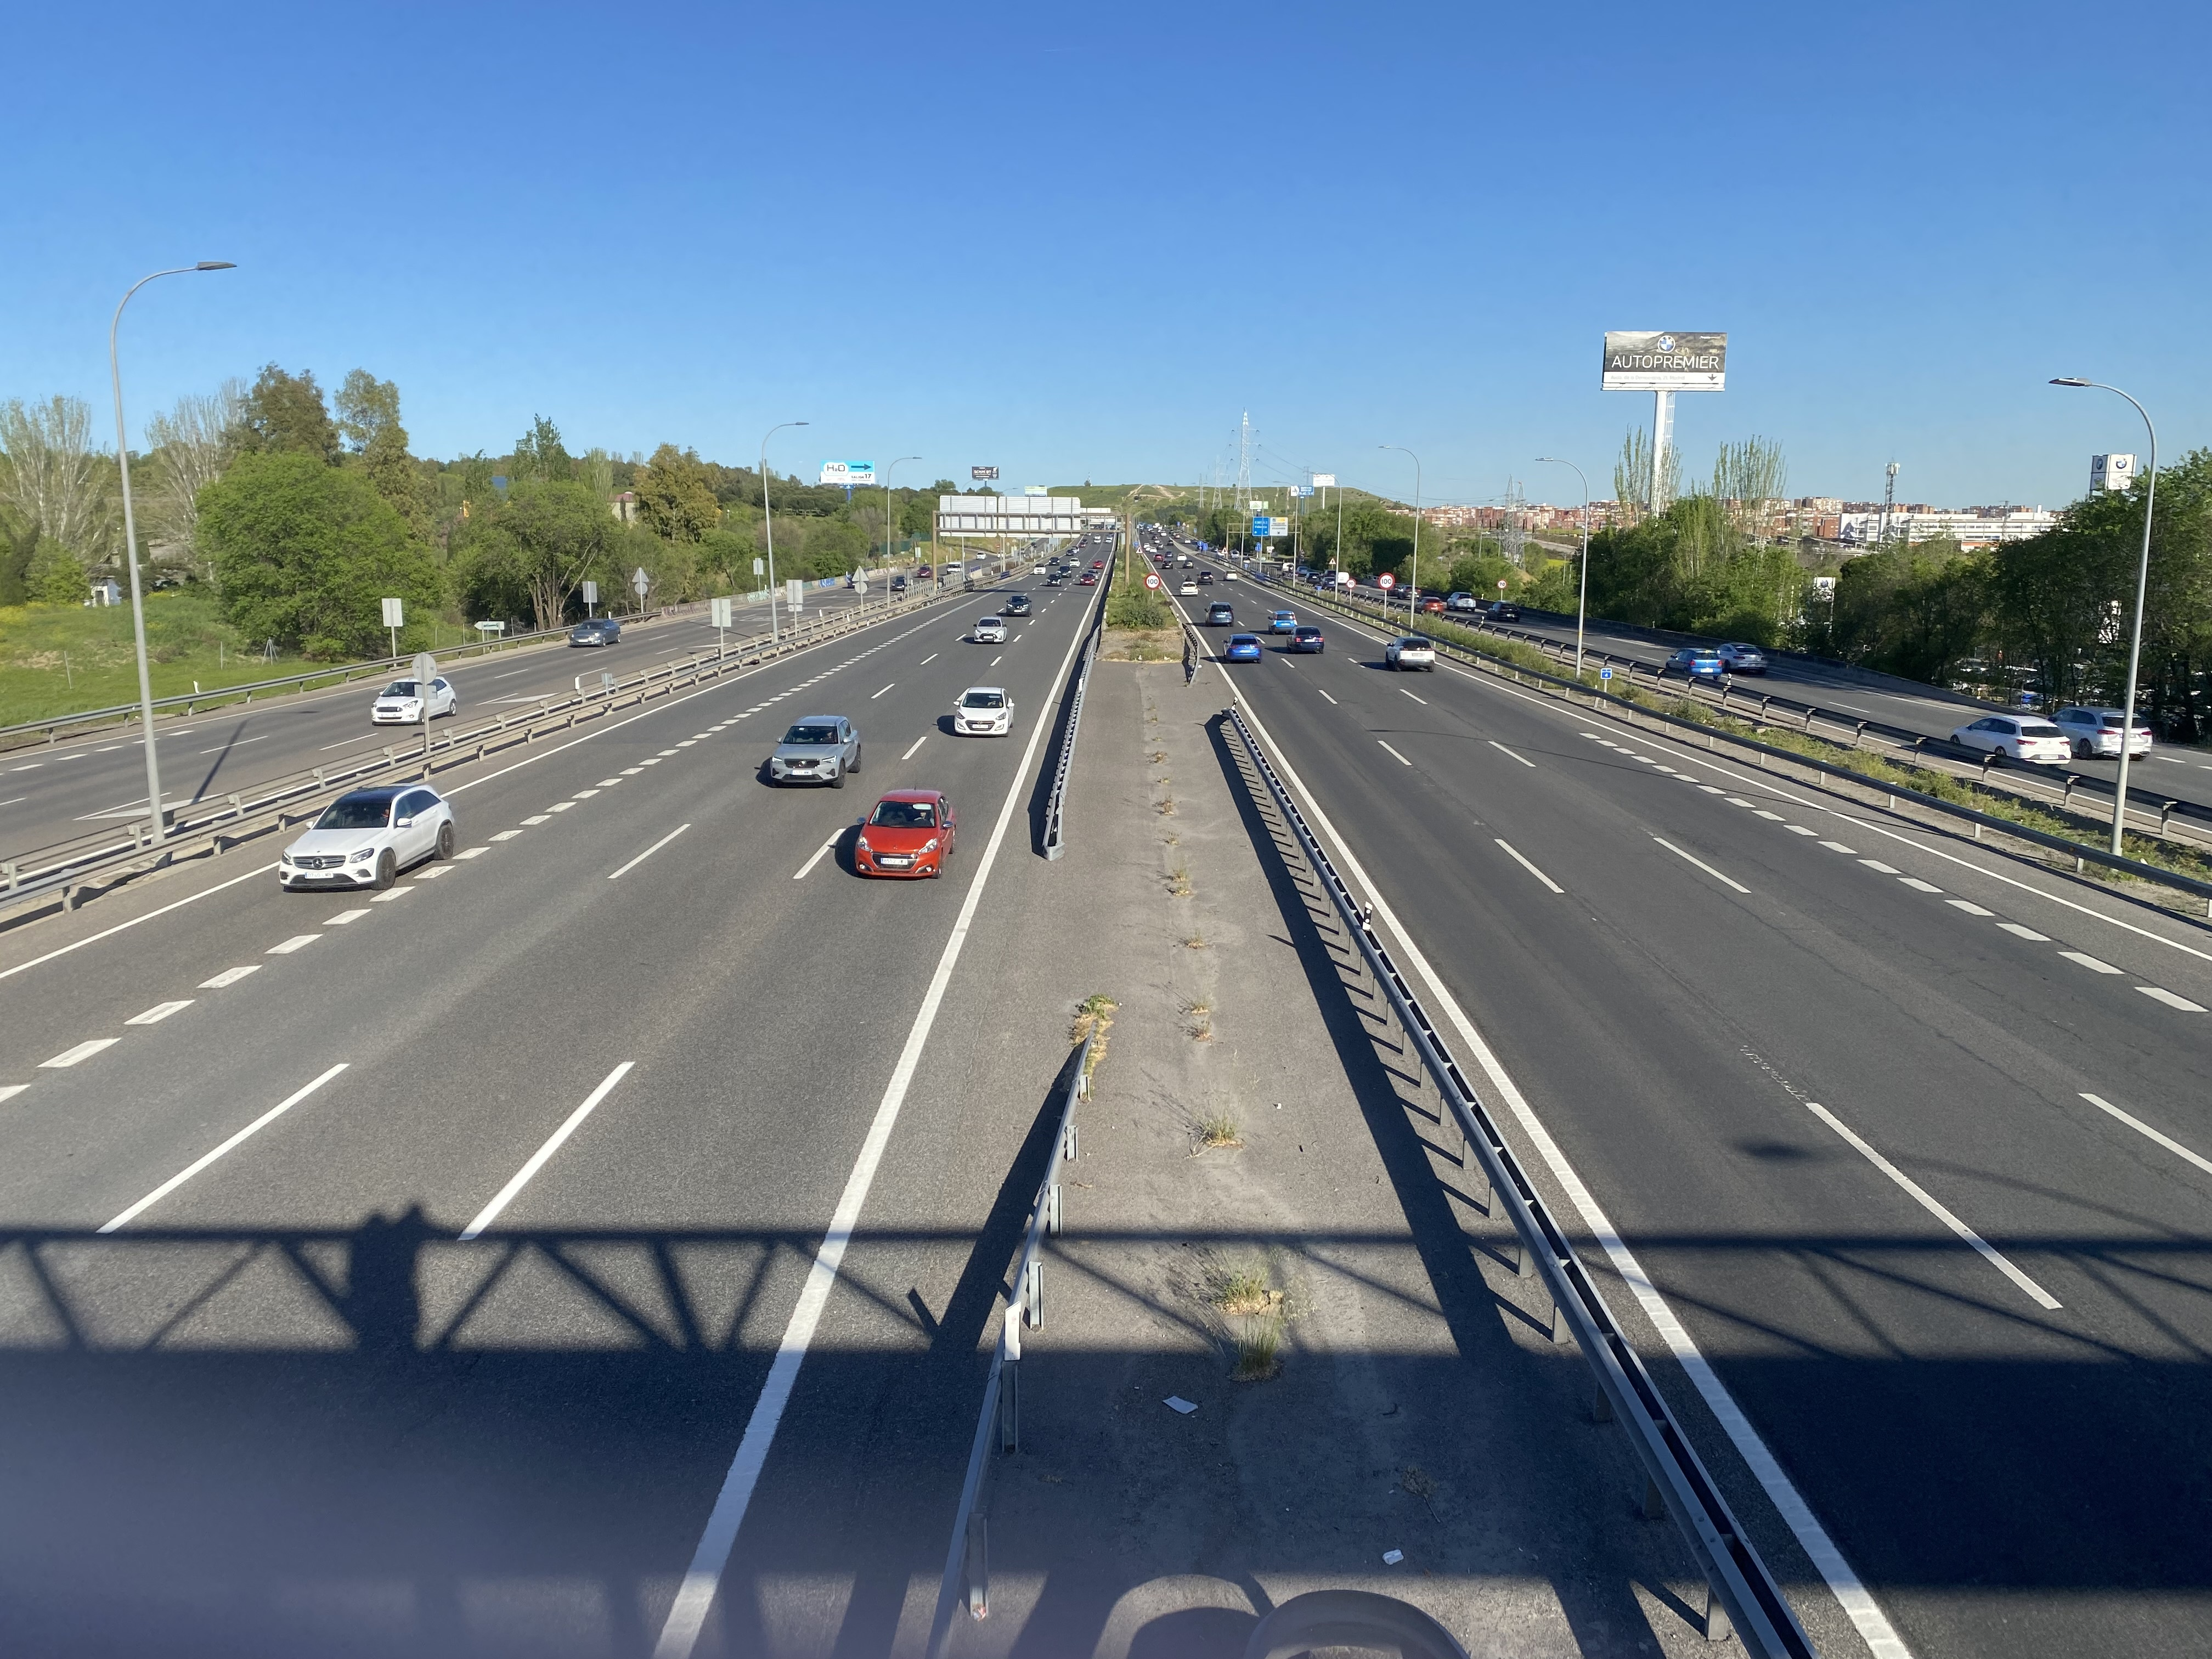cars: (280, 784, 455, 889), (853, 789, 956, 877), (768, 716, 860, 786), (1951, 714, 2071, 765), (953, 687, 1014, 735), (1662, 647, 1724, 681), (1383, 634, 1435, 671), (1717, 641, 1768, 674), (568, 617, 620, 648), (1223, 633, 1263, 662), (1287, 626, 1324, 653), (972, 615, 1008, 643), (1268, 608, 1298, 633), (1001, 592, 1031, 617), (1446, 591, 1479, 612), (1486, 601, 1519, 622), (1205, 603, 1233, 626), (1420, 596, 1446, 615), (1076, 568, 1099, 586), (892, 573, 907, 592), (1144, 573, 1162, 589), (1198, 570, 1214, 586), (1181, 584, 1198, 596)
